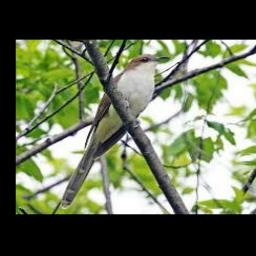Cuckoo: (61, 55, 171, 209)
